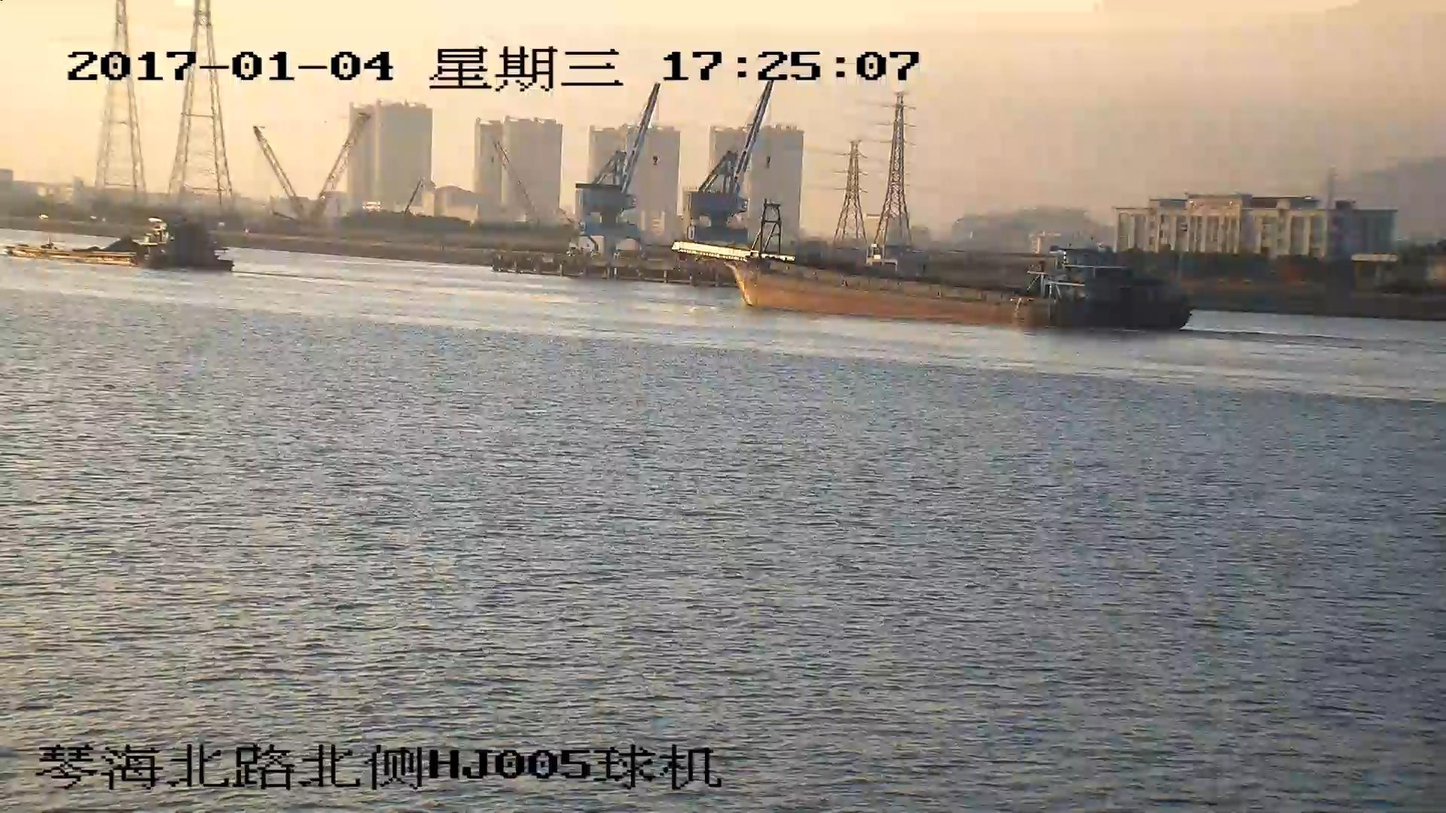bulk cargo carrier: (676, 238, 1190, 329)
ore carrier: (0, 217, 232, 269)
